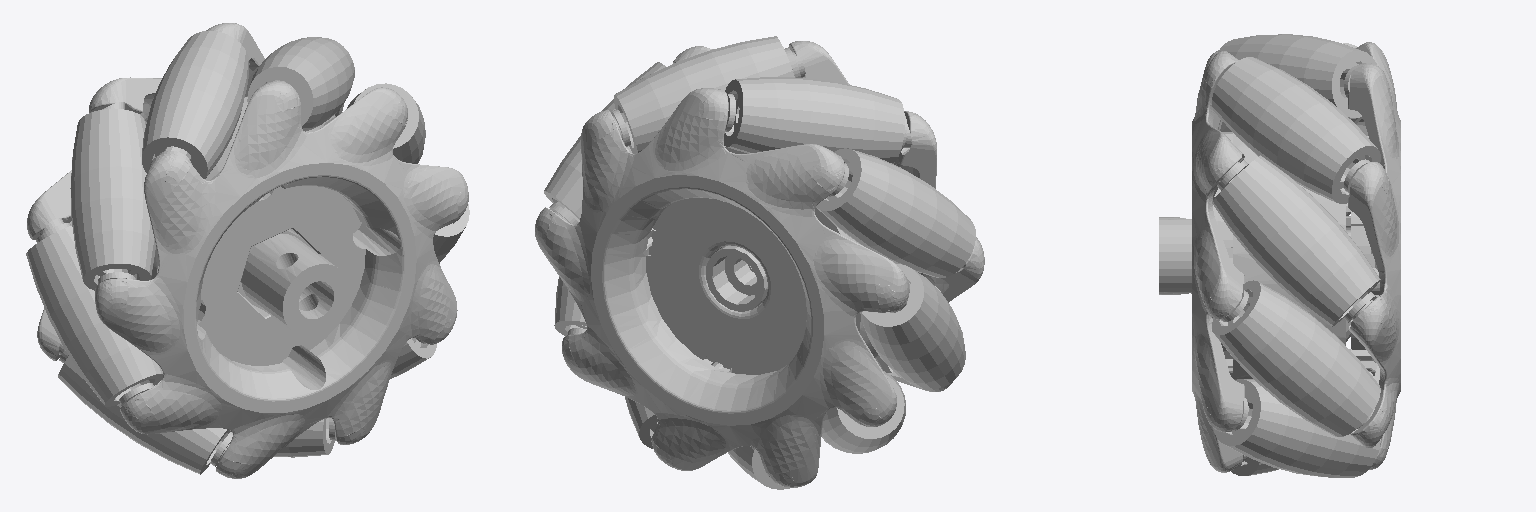
Rendered from front_left_wheel.obj.
The picture shows the model from 3 angles: view 1: azimuth 30°, elevation 25°; view 2: azimuth 150°, elevation 25°; view 3: azimuth 270°, elevation 25°; orthographic projection.
Bounding box in the file's own units: 0.0646 × 0.0645 × 0.0352.